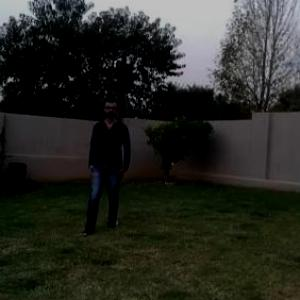follow: (90, 96, 126, 222)
